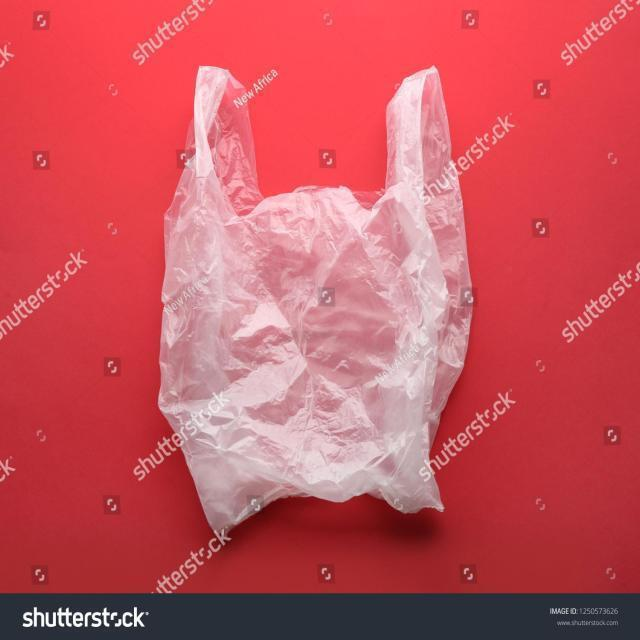Plastic_Bag: (167, 50, 465, 536)
